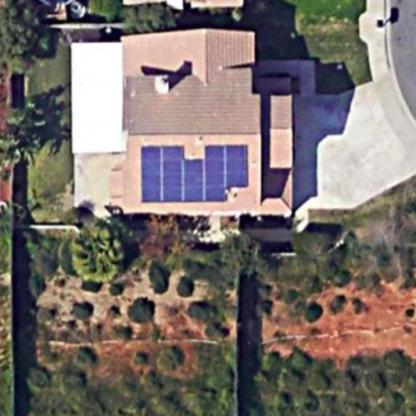solar_panel: (134, 141, 255, 214)
